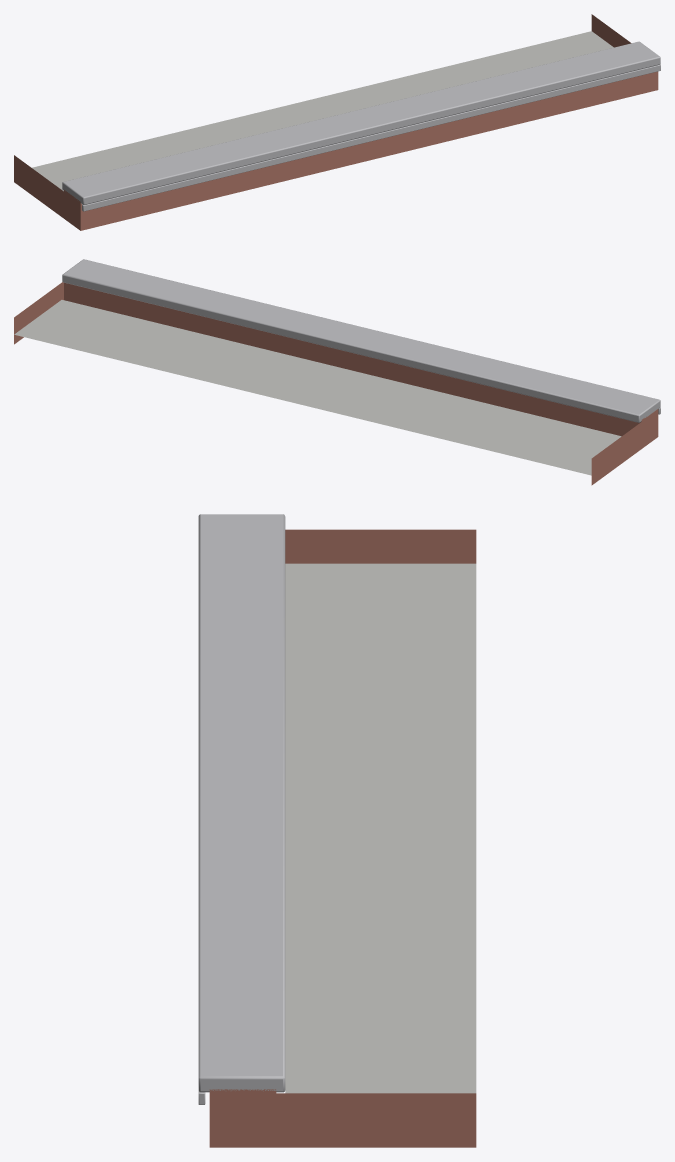
File: cap_flat_6.glb
The picture shows the model from 3 angles, top to bottom: view 1: azimuth 30°, elevation 25°; view 2: azimuth 150°, elevation 25°; view 3: azimuth 270°, elevation 25°; orthographic projection. The views are drawn at different scales.
Parts seen in each view (by area): view 1: cap_flat_6; view 2: cap_flat_6; view 3: cap_flat_6.
Boxes of the visible parts, <box> form: cap_flat_6: <box>14,14,660,230</box>; cap_flat_6: <box>14,259,660,485</box>; cap_flat_6: <box>198,514,476,1147</box>.
Bounding box in the file's own units: 6 × 0.35 × 1.25.
